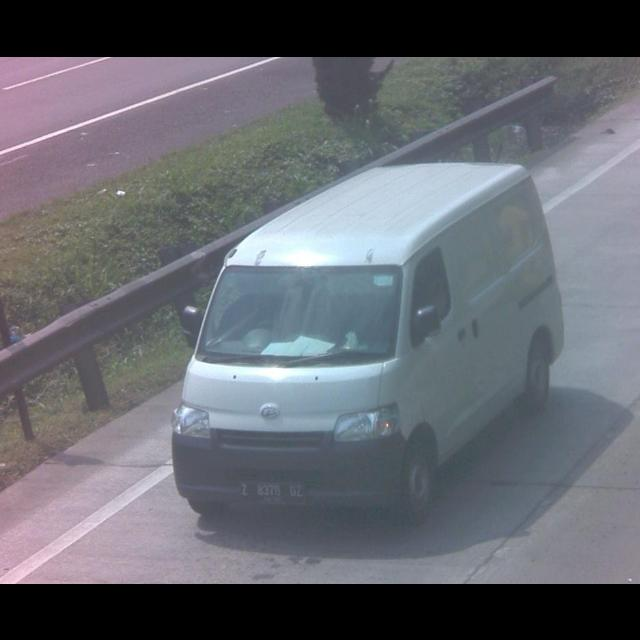plate: (234, 479, 306, 501)
